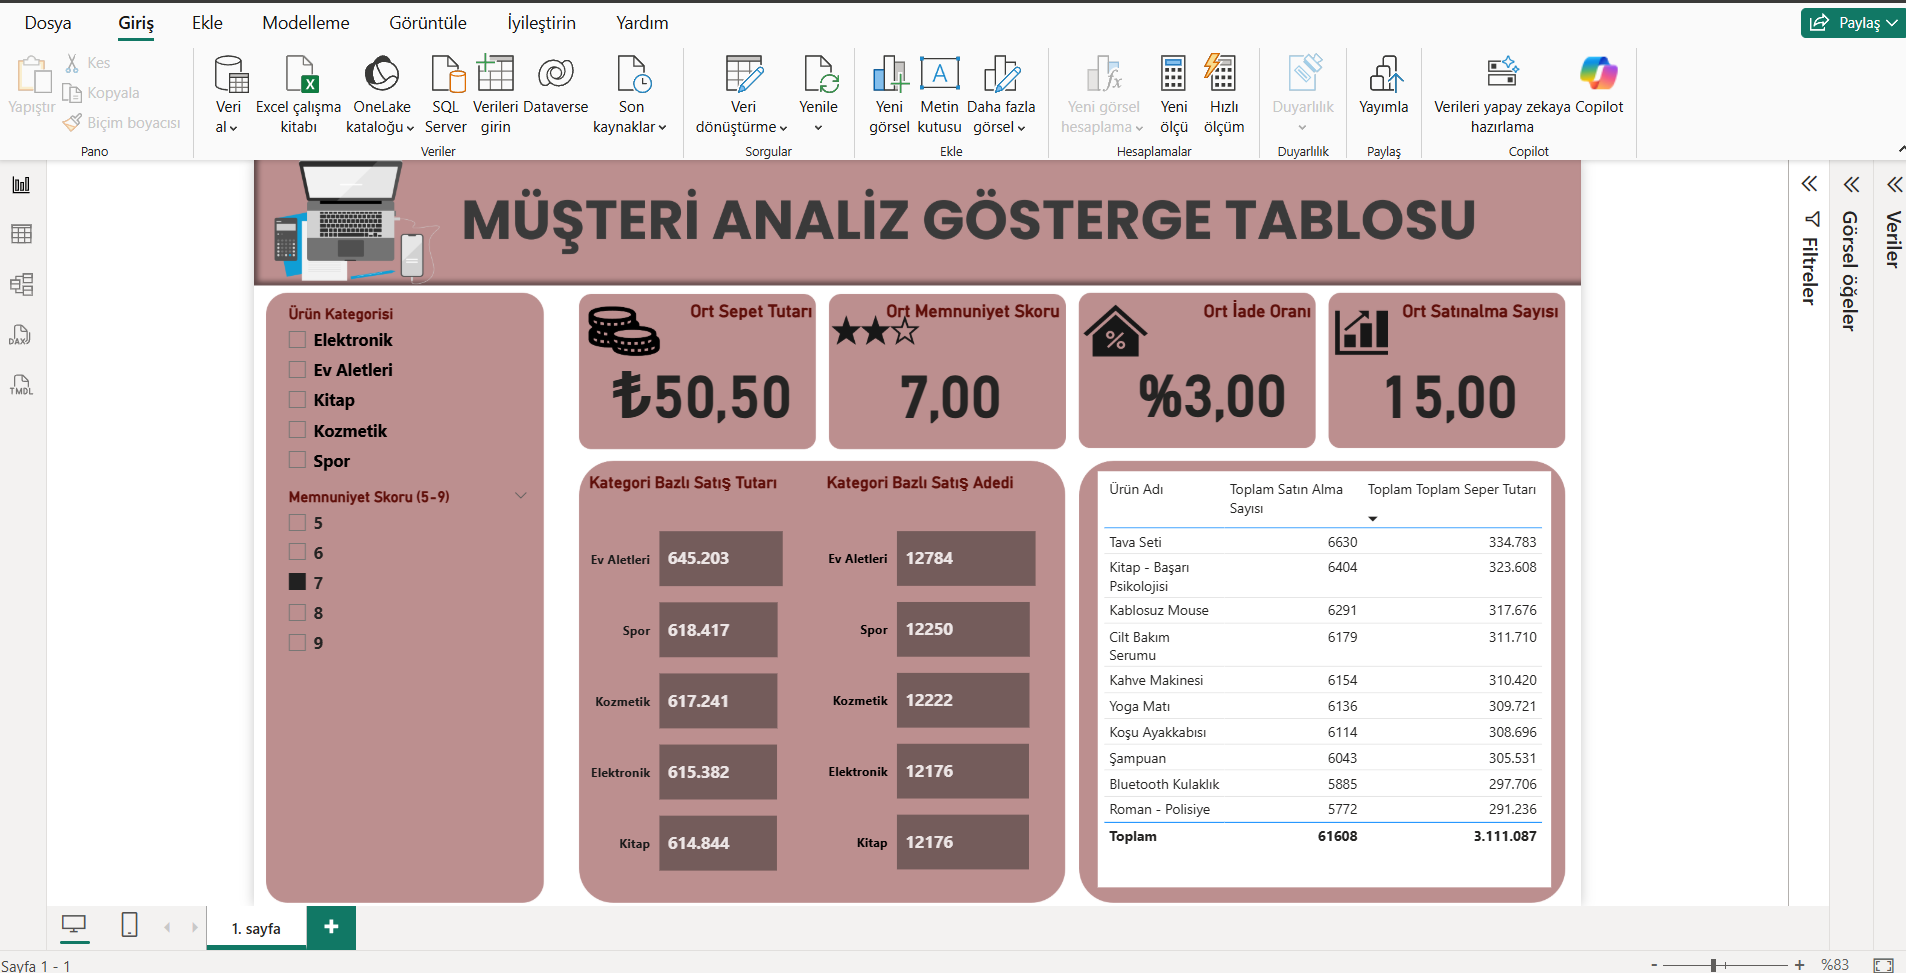

This screenshot's page, from the dashboard's own definition file:
{"tool":"powerbi","page":{"name":"1. sayfa","canvas":[1280,720],"ordinal":0},"visuals":[{"type":"card","title":"Ort İade Oranı","fields":{"Values":["Avg(Müşteri_Verileri.İade Oranı (%))"]},"box":[824.6,134.8,200,152.2],"z":0},{"type":"card","title":"Ort Sepet Tutarı","fields":{"Values":["Avg(Müşteri_Verileri.Ortalama Sepet Tutarı (TL))"]},"box":[321.7,134.8,221.7,153.6],"z":1000},{"type":"card","title":"Ort Memnuniyet Skoru","fields":{"Values":["Avg(Müşteri_Verileri.Memnuniyet Skoru (1–10))"]},"box":[560.9,134.8,221.7,153.6],"z":2000},{"type":"card","title":"Ort Satınalma Sayısı","fields":{"Values":["Avg(Müşteri_Verileri.Satın Alma Sayısı)"]},"box":[1042,134.8,221.7,153.6],"z":3000},{"type":"clusteredBarChart","title":" Kategori Bazlı Satış Tutarı","fields":{"Category":["Müşteri_Verileri.Ürün Kategorisi"],"Y":["Sum(Müşteri_Verileri.Toplam Seper Tutarı)"]},"box":[318.8,300,253.8,420],"z":4000},{"type":"clusteredBarChart","title":"Kategori Bazlı Satış Adedi","fields":{"Category":["Müşteri_Verileri.Ürün Kategorisi"],"Y":["Sum(Müşteri_Verileri.Satın Alma Sayısı)"]},"box":[547.5,300,258.8,418.8],"z":5000},{"type":"tableEx","fields":{"Values":["Müşteri_Verileri.Ürün Adı","Sum(Müşteri_Verileri.Satın Alma Sayısı)","Sum(Müşteri_Verileri.Toplam Seper Tutarı)"]},"box":[813.8,300,437.5,401.2],"z":6000},{"type":"slicer","fields":{"Values":["Müşteri_Verileri.Ürün Kategorisi"]},"box":[20,135,256.2,176.2],"z":7000},{"type":"slicer","fields":{"Values":["Müşteri_Verileri.Memnuniyet Skoru (1–10)"]},"box":[20,311.2,256.2,176.2],"z":8000}]}

Visuals, with their boxes on the page's 1280x720 design canvas (x1, y1, x2, y2). These are canvas units, not pixel positions in the 1906x973 screenshot, which may show the page scaled, cropped or inside an application window:
"Ort İade Oranı" card: locate(825, 135, 1025, 287)
"Ort Sepet Tutarı" card: locate(322, 135, 543, 288)
"Ort Memnuniyet Skoru" card: locate(561, 135, 783, 288)
"Ort Satınalma Sayısı" card: locate(1042, 135, 1264, 288)
" Kategori Bazlı Satış Tutarı" clusteredBarChart: locate(319, 300, 573, 720)
"Kategori Bazlı Satış Adedi" clusteredBarChart: locate(548, 300, 806, 719)
tableEx - Müşteri_Verileri.Ürün Adı x Sum(Müşteri_Verileri.Satın Alma Sayısı): locate(814, 300, 1251, 701)
slicer - Müşteri_Verileri.Ürün Kategorisi: locate(20, 135, 276, 311)
slicer - Müşteri_Verileri.Memnuniyet Skoru (1–10): locate(20, 311, 276, 487)
